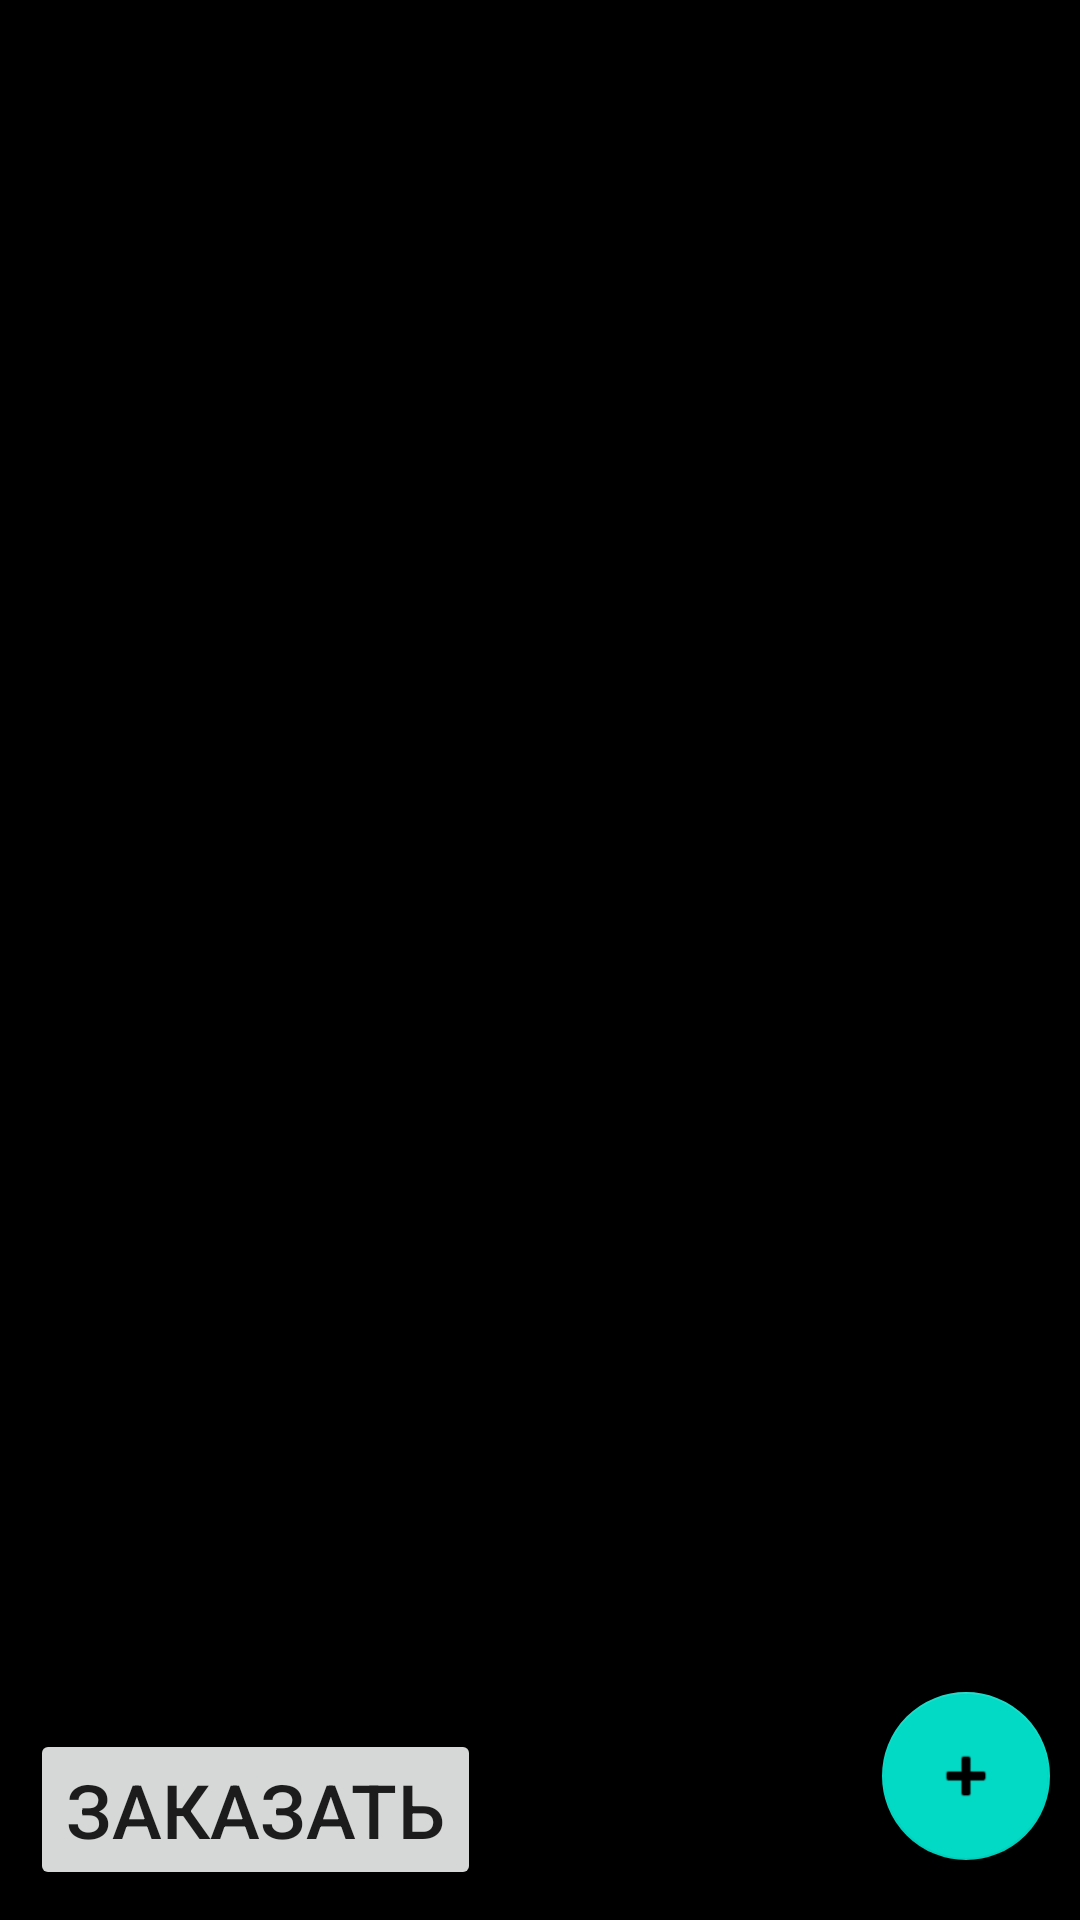

Named icons in this screenshot (1080x1920) and their bounding boxes, (x1, y1, x2, y2):
add: (882, 1692, 1050, 1860)
